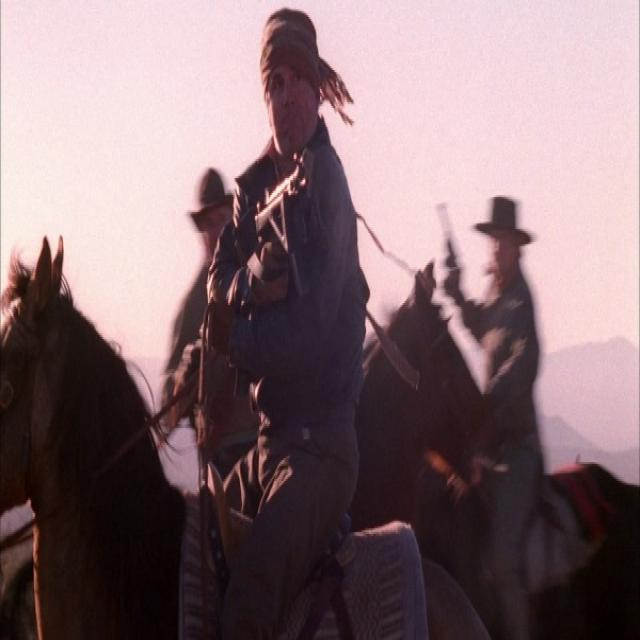rifle: (239, 148, 314, 280)
